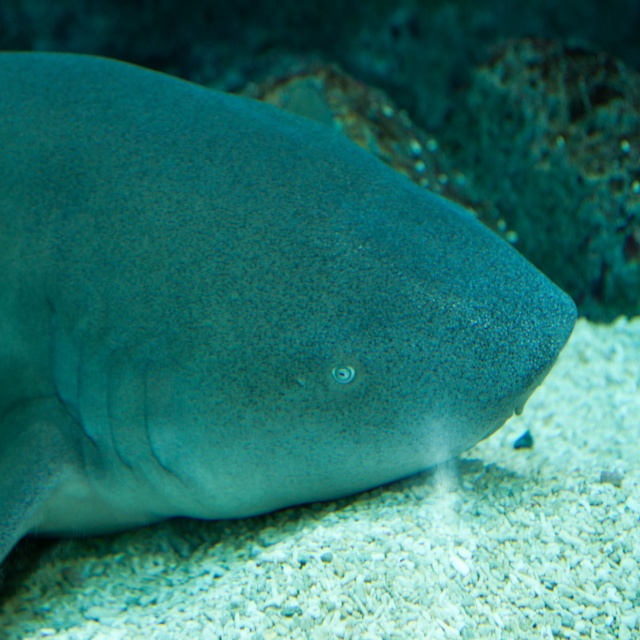Shark: (0, 0, 573, 576)
